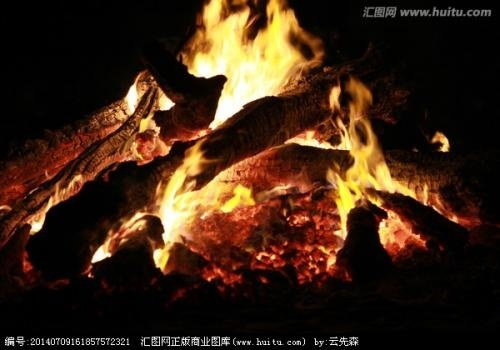fire: (62, 0, 428, 290)
